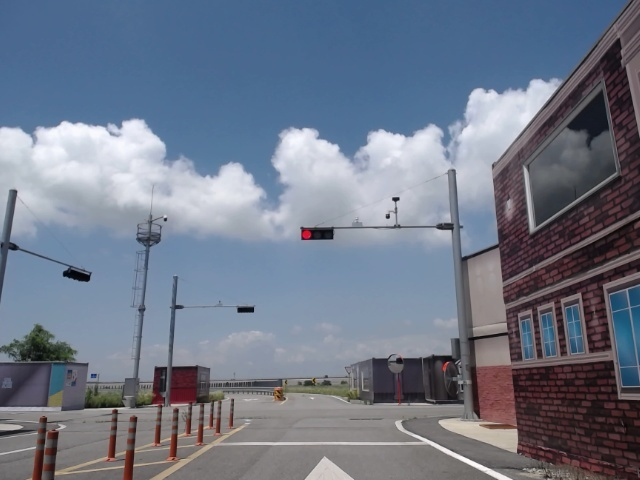red_3: (300, 227, 334, 241)
